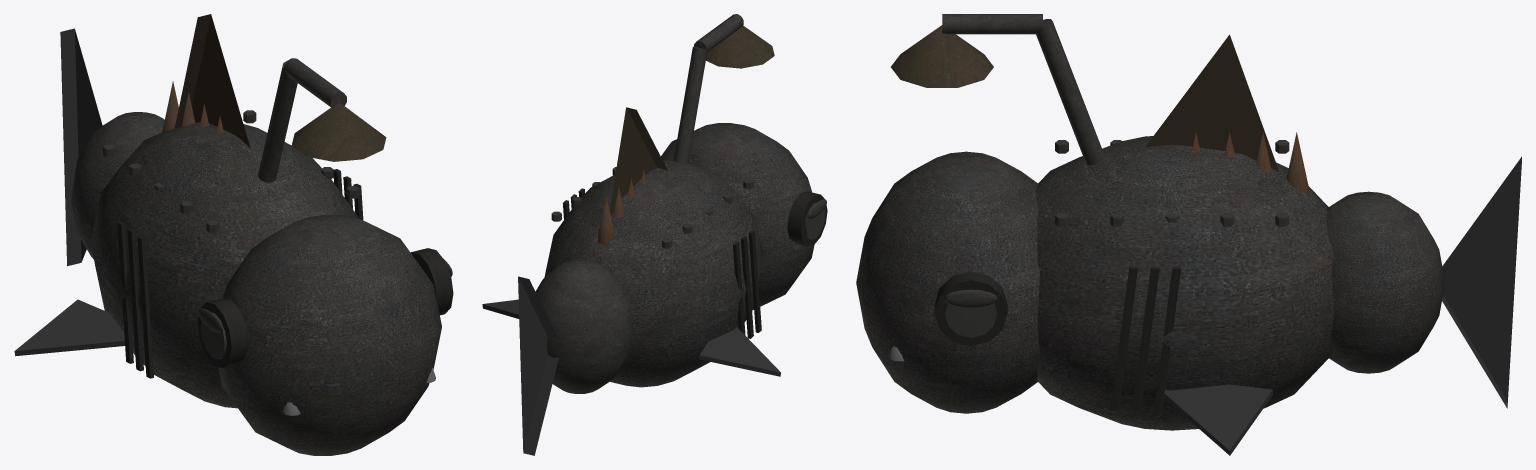
The model's file is wild-fener-baligi.glb.
3 views of the same model, side by side, from view 1: azimuth 30°, elevation 25°; view 2: azimuth 150°, elevation 25°; view 3: azimuth 270°, elevation 25° (orthographic). The views are drawn at different scales.
Visible parts, largest first — view 1: FenerBaligi__Body_Mesh, FenerBaligi__Head_Mesh, FenerBaligi__Tail_Mesh, FenerBaligi__TailTip_Mesh, FenerBaligi__Fin_L_Mesh; view 2: FenerBaligi__Body_Mesh, FenerBaligi__Head_Mesh, FenerBaligi__Tail_Mesh, FenerBaligi__TailTip_Mesh, FenerBaligi__Fin_L_Mesh, FenerBaligi__Fin_R_Mesh; view 3: FenerBaligi__Body_Mesh, FenerBaligi__Head_Mesh, FenerBaligi__Tail_Mesh, FenerBaligi__TailTip_Mesh, FenerBaligi__Fin_R_Mesh, FenerBaligi__Lid_R_Mesh.
Boxes of the visible parts, bbox=[...] form: FenerBaligi__Body_Mesh: bbox=[91, 14, 386, 408]; FenerBaligi__Head_Mesh: bbox=[197, 214, 453, 455]; FenerBaligi__Tail_Mesh: bbox=[71, 112, 164, 259]; FenerBaligi__TailTip_Mesh: bbox=[60, 28, 102, 266]; FenerBaligi__Fin_L_Mesh: bbox=[14, 299, 134, 356]; FenerBaligi__Body_Mesh: bbox=[544, 14, 774, 387]; FenerBaligi__Head_Mesh: bbox=[661, 123, 827, 310]; FenerBaligi__Tail_Mesh: bbox=[535, 259, 633, 393]; FenerBaligi__TailTip_Mesh: bbox=[518, 276, 558, 455]; FenerBaligi__Fin_L_Mesh: bbox=[699, 327, 780, 376]; FenerBaligi__Fin_R_Mesh: bbox=[482, 299, 519, 318]; FenerBaligi__Body_Mesh: bbox=[891, 14, 1334, 430]; FenerBaligi__Head_Mesh: bbox=[856, 151, 1039, 413]; FenerBaligi__Tail_Mesh: bbox=[1326, 191, 1445, 373]; FenerBaligi__TailTip_Mesh: bbox=[1441, 156, 1521, 408]; FenerBaligi__Fin_R_Mesh: bbox=[1164, 384, 1272, 455]; FenerBaligi__Lid_R_Mesh: bbox=[944, 289, 997, 307].
Size of the model in its own units: 1.81 by 1.72 by 2.57.
Materials: 8 (8 with a texture image).
